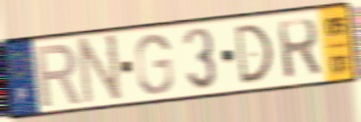3: (181, 26, 218, 92)
D: (232, 21, 275, 87)
G: (133, 32, 175, 97)
N: (77, 31, 124, 107)
R: (34, 42, 84, 110), (275, 16, 324, 81)
